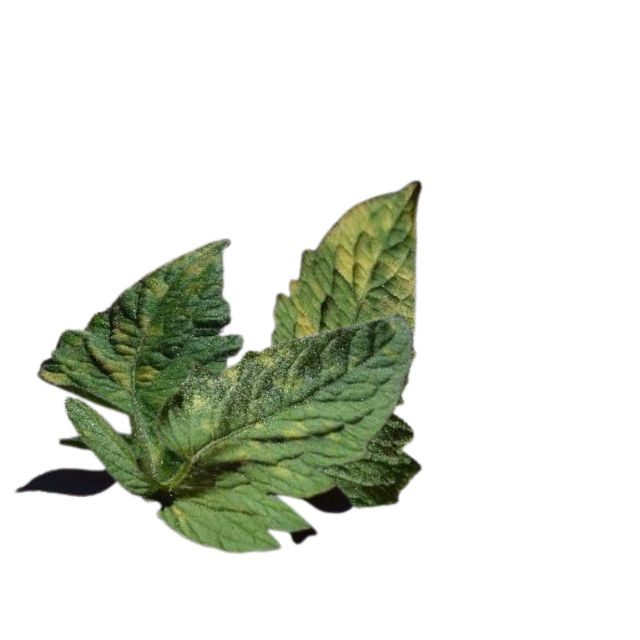Leaf_Mold: (321, 179, 422, 323), (88, 310, 161, 387), (169, 239, 230, 297), (251, 342, 306, 393), (285, 274, 314, 336), (263, 452, 297, 483), (36, 360, 75, 385), (140, 273, 166, 301), (279, 419, 306, 443)
